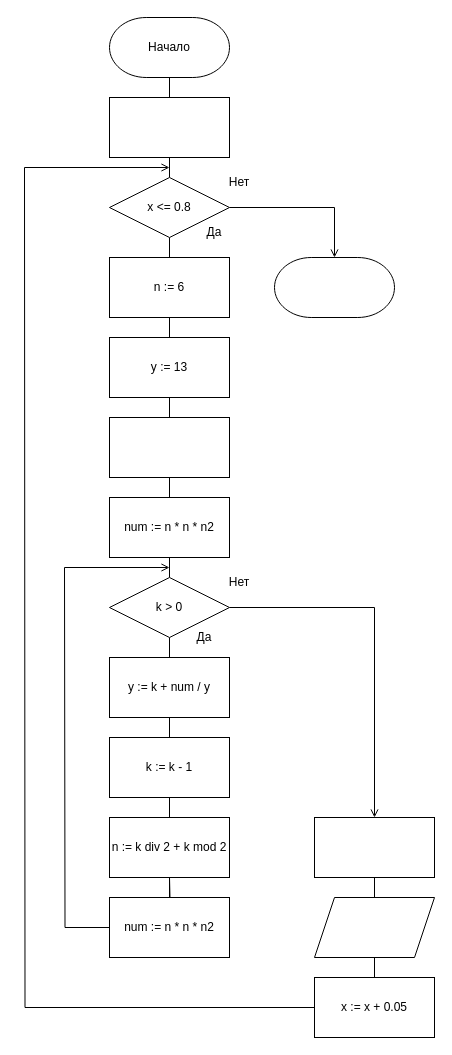
Image size: 452x1055. Some labels were removed from this diagram. Each missing label, with the centre of its shape:
"k := 12" belongs at (169,447).
"x := 0.5 n2 := x - 1" belongs at (169,127).
"y := n2 / y" belongs at (374,847).
"Вывод x, y" belongs at (374,927).
"Выход" belongs at (334,287).
